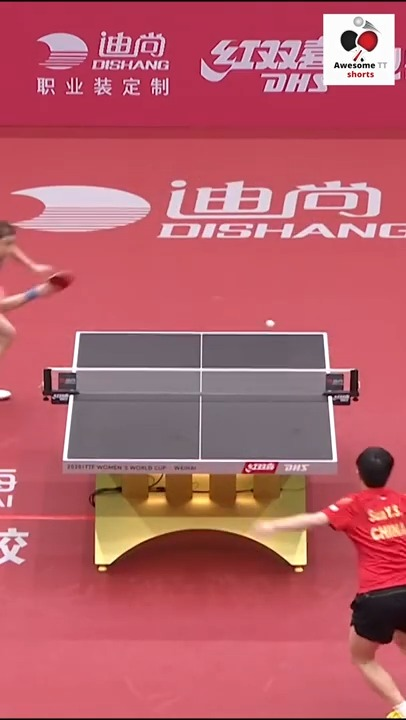Ball: (264, 317, 278, 329)
